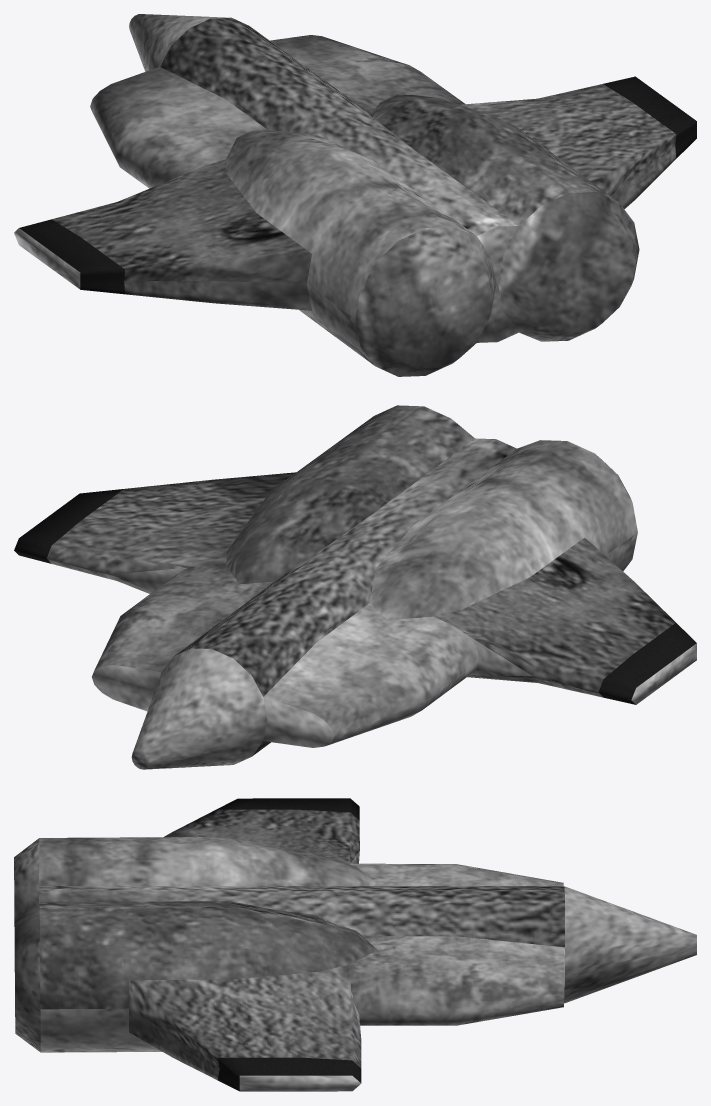
The model's file is ship2.obj.
The picture shows the model from 3 angles, top to bottom: view 1: azimuth 30°, elevation 25°; view 2: azimuth 150°, elevation 25°; view 3: azimuth 270°, elevation 25°; orthographic projection. The views are drawn at different scales.
Visible parts, largest first — view 1: Cube; view 2: Cube; view 3: Cube.
Part boxes in pixels (x1,y1,x2,y2): Cube: (14,14,696,376); Cube: (14,405,696,769); Cube: (14,798,696,1091).
Bounding box in the file's own units: 11.2 × 2.58 × 11.65.
